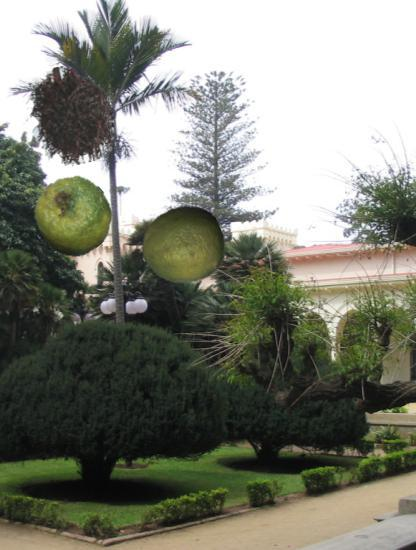Limes: (141, 204, 225, 288), (33, 177, 113, 257)
Rambutan: (19, 66, 119, 166)
